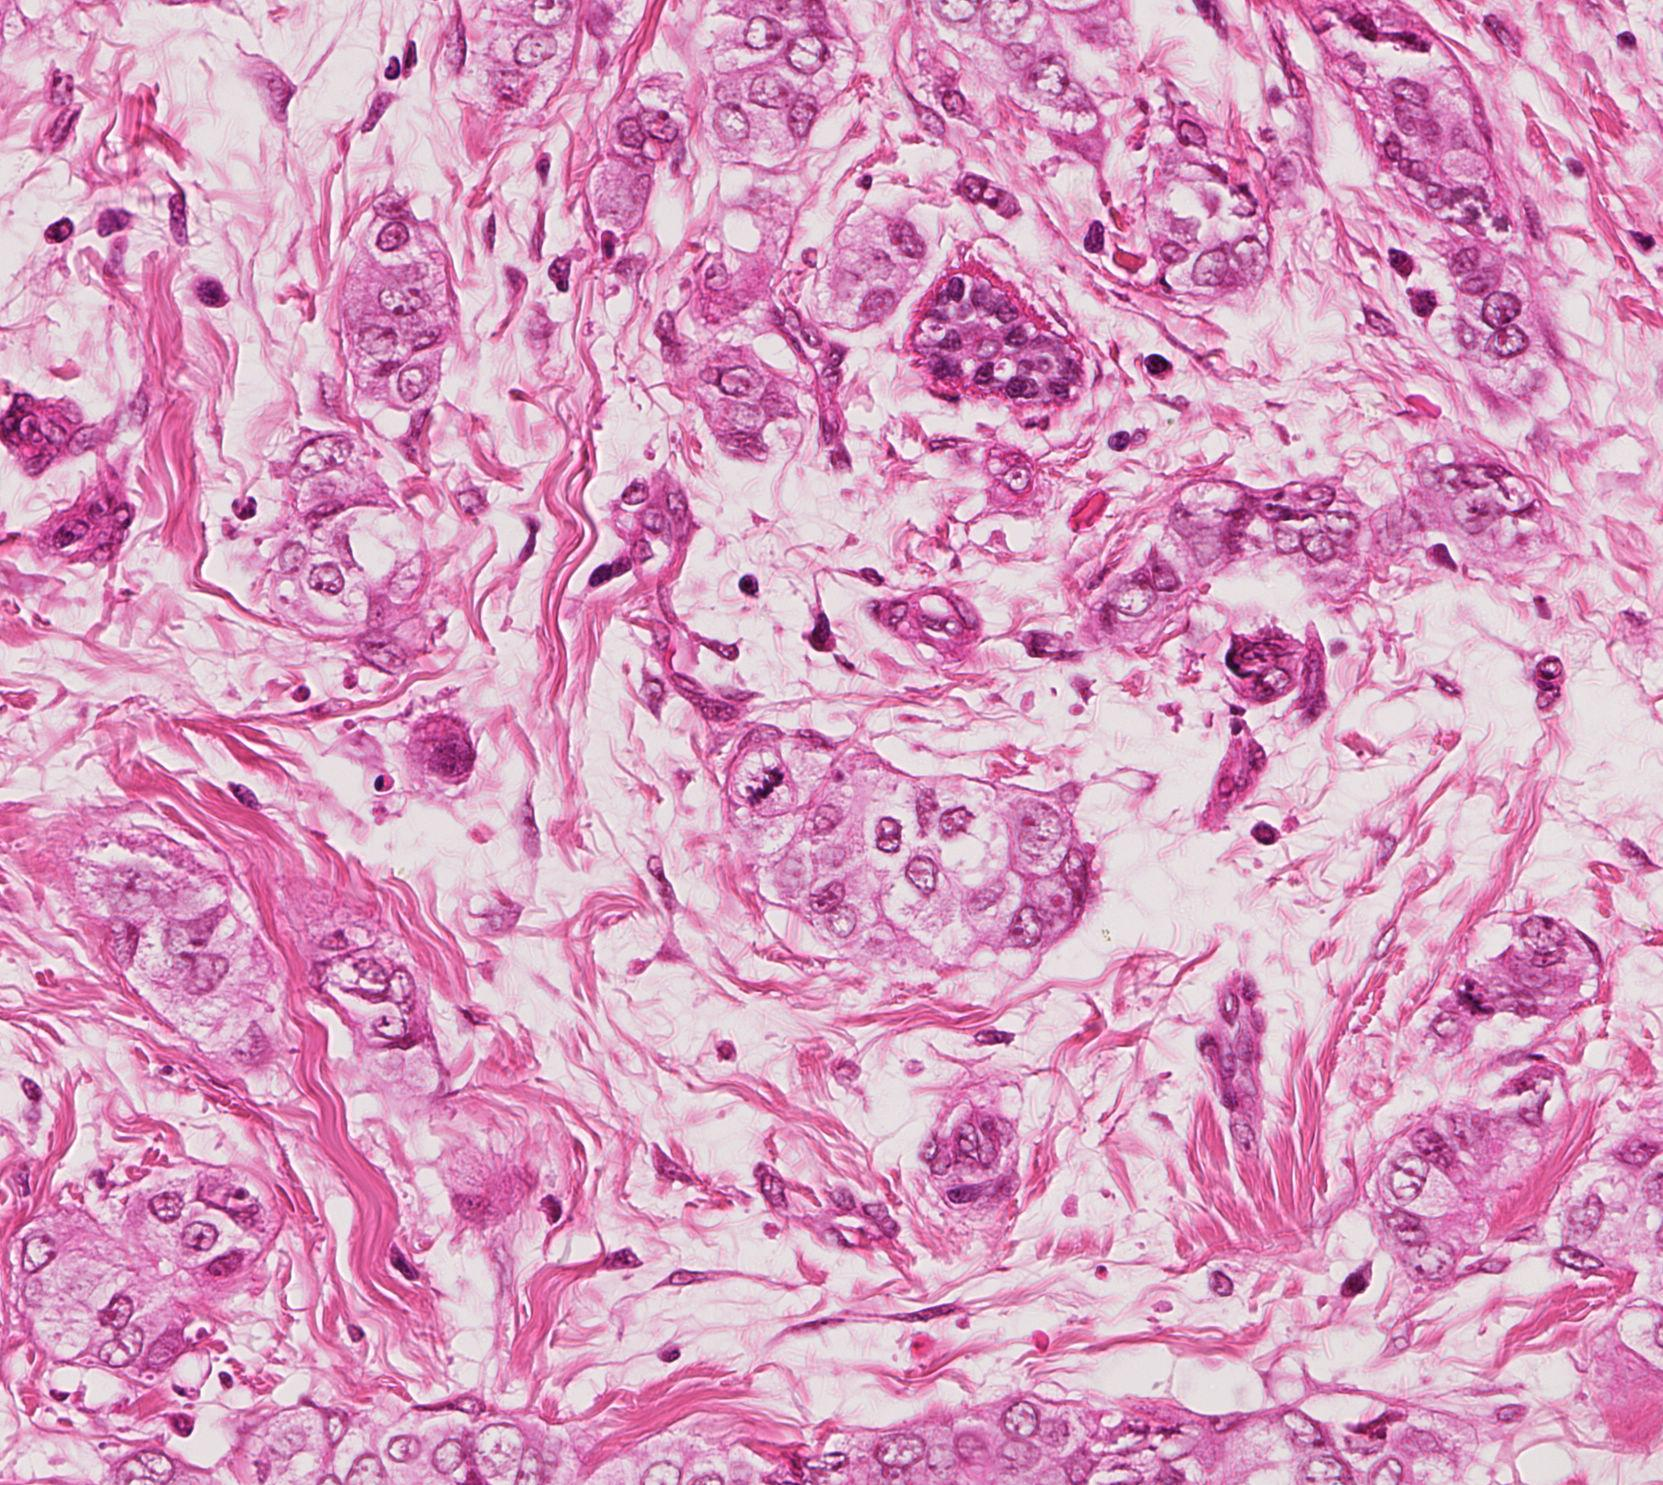mitosis: (735, 755, 796, 816), (1442, 970, 1502, 1031)
